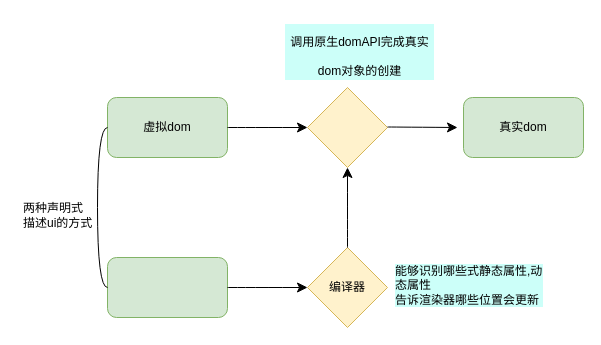
This 601x345 diagram has some shape labels left out. The centre of each missing label's shape, as x and y in pixels:
模板: the point at 167,287
渲染器: the point at 347,127
